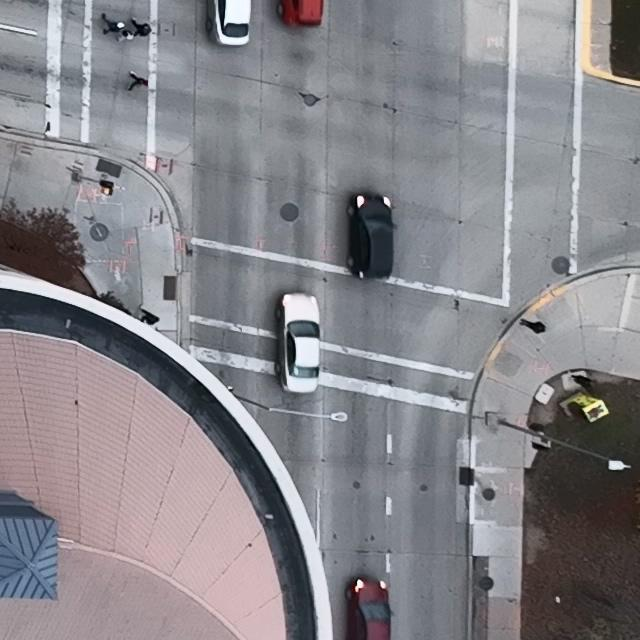car: (275, 291, 323, 395), (347, 193, 397, 278), (345, 577, 394, 640), (204, 0, 251, 47), (275, 0, 323, 29)
